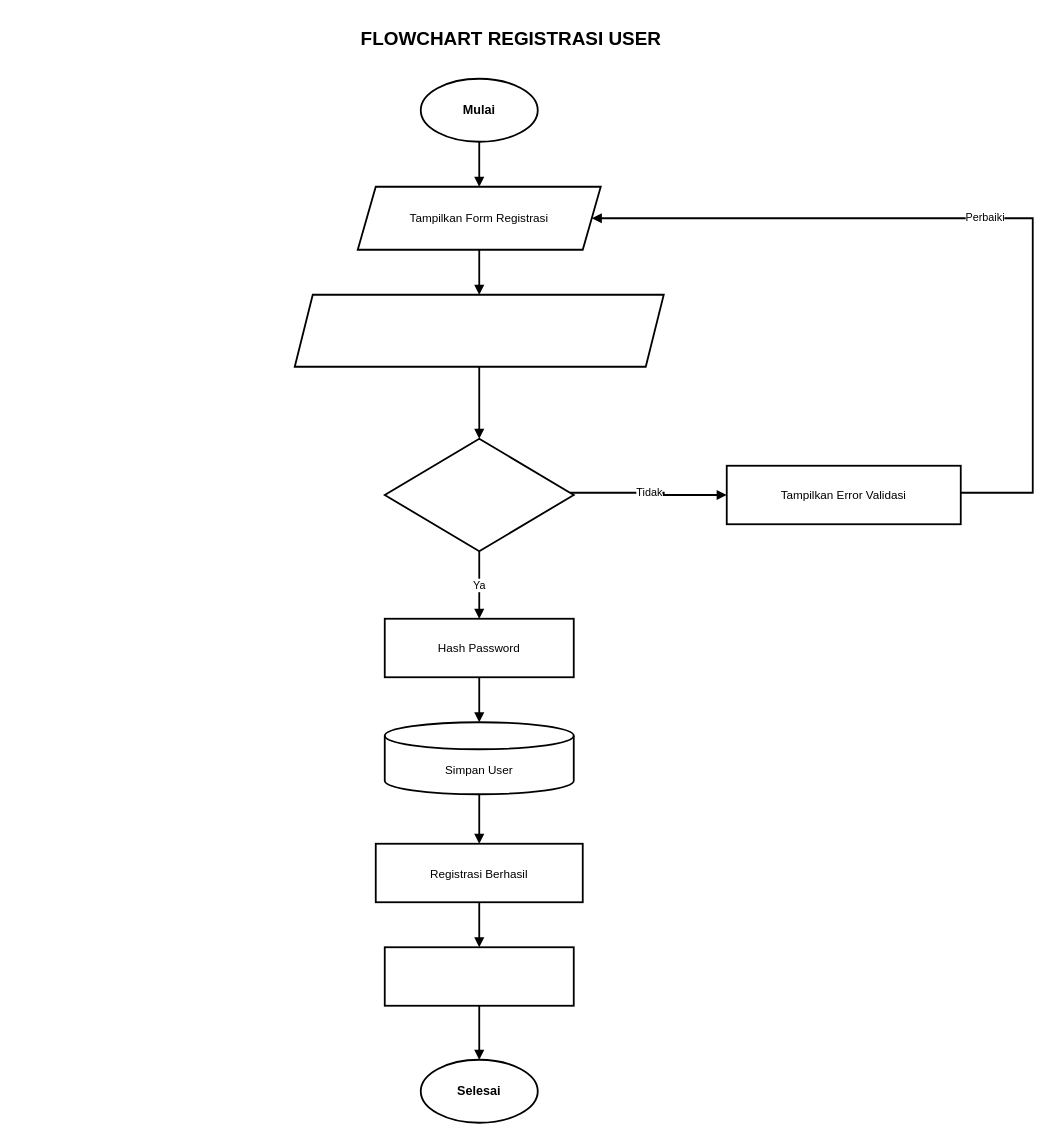
Some shapes in this 1056 by 1139 pixel diagram are drawn without their labels. Here are the shapes that lost their labels. From the top down, the centre of each, then its label:
At point 478,330: "Isi Role, NIM, Nama, Email, Password, Prodi".
At point 478,494: "Data Valid dan Unik?".
At point 478,976: "Arahkan ke Login".
